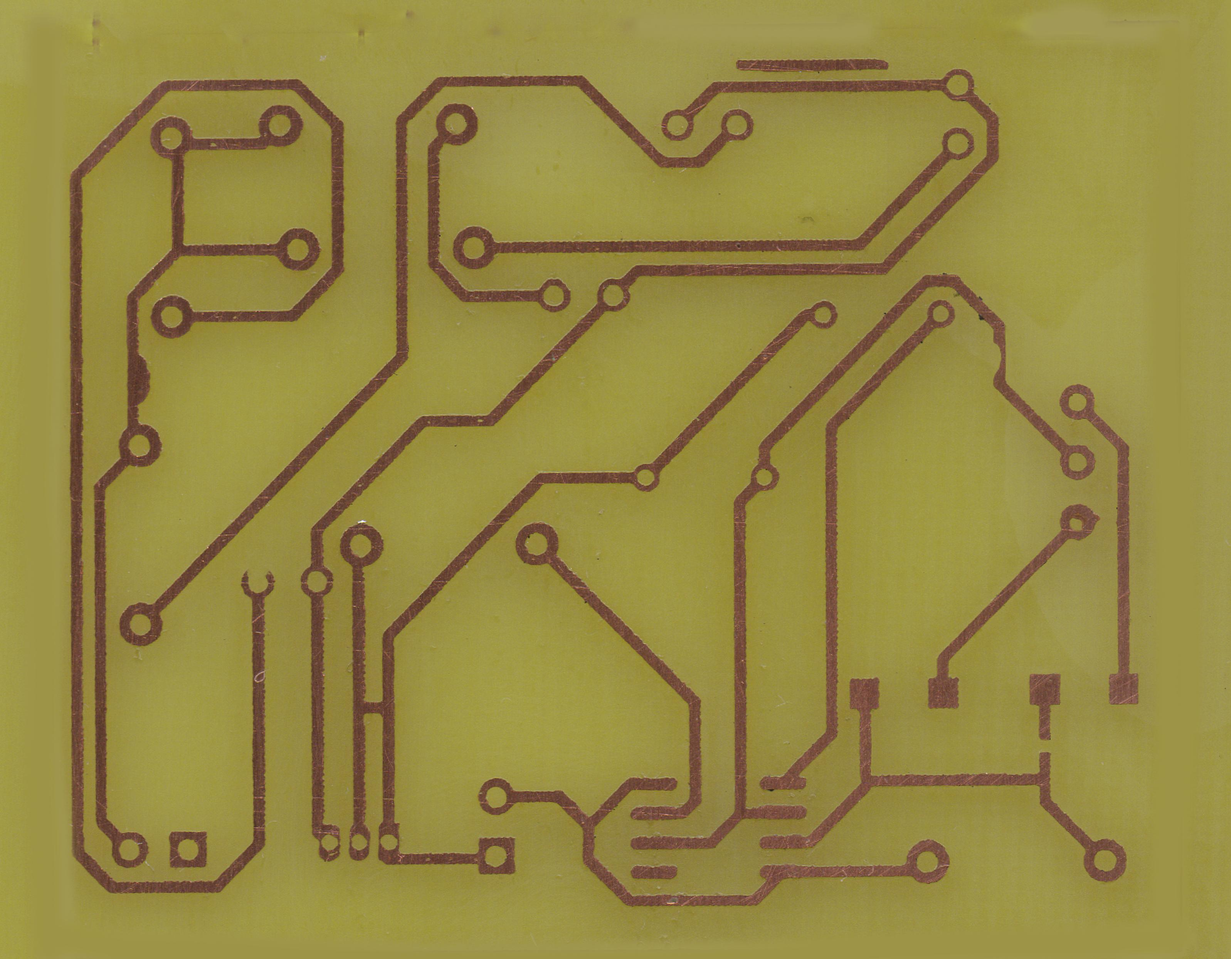missing_hole: (233, 564, 281, 606)
mouse_bite: (988, 332, 1009, 388)
open_circuit: (1034, 728, 1056, 763)
short: (349, 696, 398, 721)
spur: (122, 351, 156, 406)
spurious_copper: (733, 52, 898, 76)
